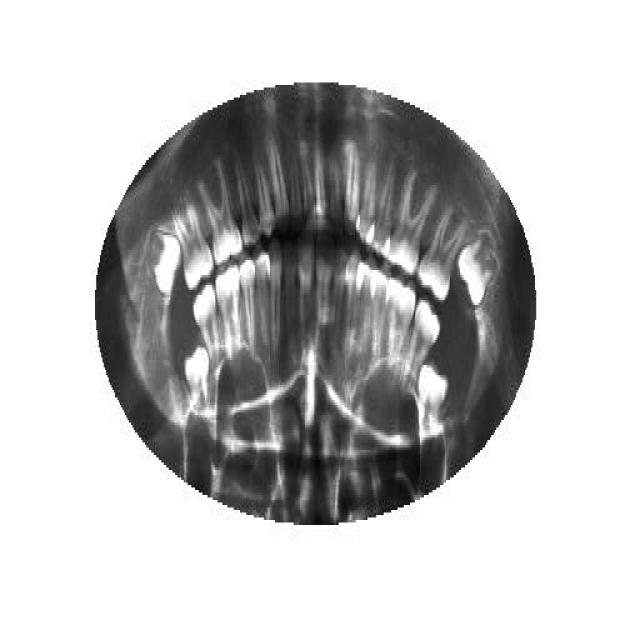Impacted Tooth: (455, 228, 500, 310), (416, 363, 449, 445), (148, 228, 182, 300), (184, 345, 208, 420)
